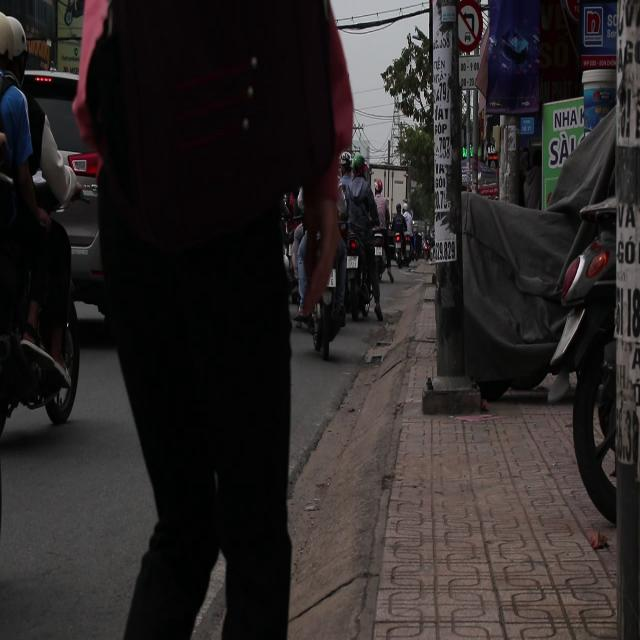car: (3, 70, 102, 208)
motorbike: (294, 185, 380, 361)
